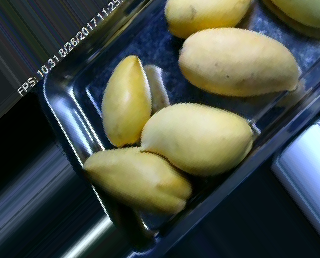Mango: (177, 26, 301, 96), (136, 103, 259, 172), (83, 148, 194, 215), (100, 55, 151, 146), (162, 0, 263, 37)
